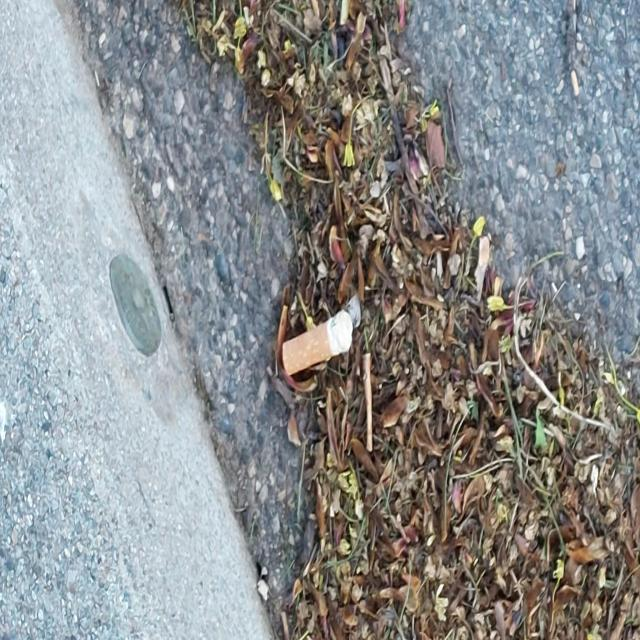other waste: (282, 307, 354, 377)
